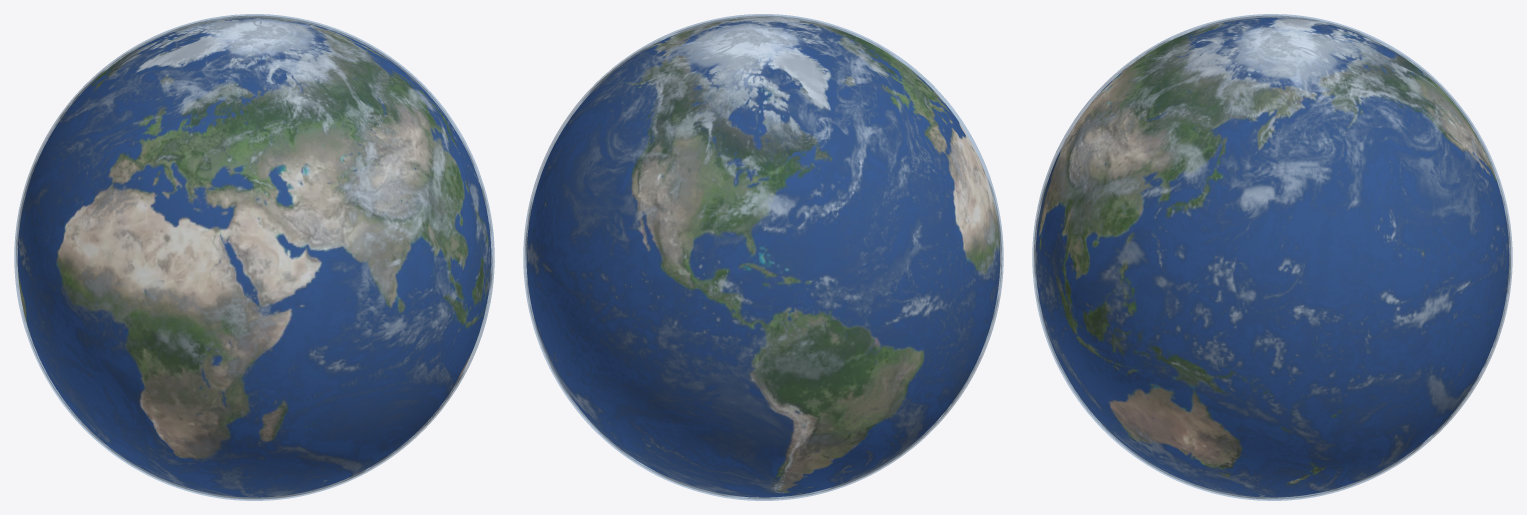
Rendered from earth.glb.
3 renders of one model, left to right at view 1: azimuth 30°, elevation 25°; view 2: azimuth 150°, elevation 25°; view 3: azimuth 270°, elevation 25°, orthographic.
Parts seen in each view (by area): view 1: pSphere5_lambert7_0, pSphere1_phong1_0, pSphere4_lambert6_0; view 2: pSphere5_lambert7_0, pSphere1_phong1_0, pSphere4_lambert6_0; view 3: pSphere5_lambert7_0, pSphere1_phong1_0, pSphere4_lambert6_0.
Part boxes in pixels (x1,y1,x2,y2): pSphere5_lambert7_0: (14,14,494,500); pSphere1_phong1_0: (17,17,491,497); pSphere4_lambert6_0: (16,15,492,499); pSphere5_lambert7_0: (523,14,1003,500); pSphere1_phong1_0: (526,17,1000,497); pSphere4_lambert6_0: (525,15,1002,499); pSphere5_lambert7_0: (1032,14,1512,500); pSphere1_phong1_0: (1035,17,1509,497); pSphere4_lambert6_0: (1034,15,1510,499).
Size of the model in its own units: 192 by 196 by 192.
Materials: 3 (2 with a texture image).
